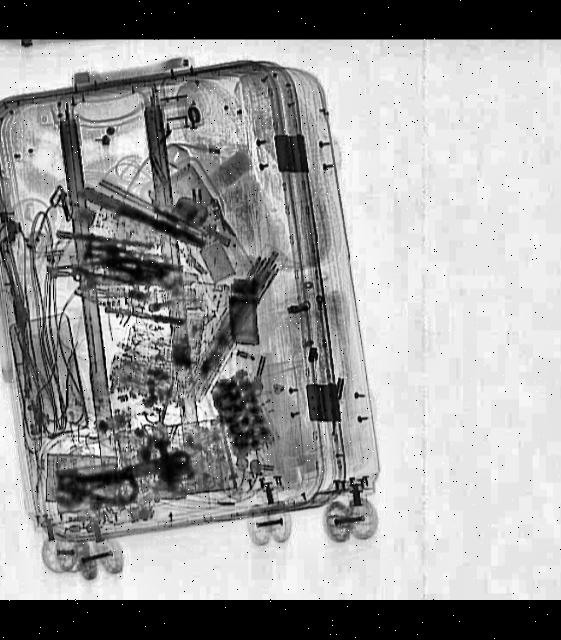Wrench: (51, 438, 196, 512), (73, 266, 170, 292)
